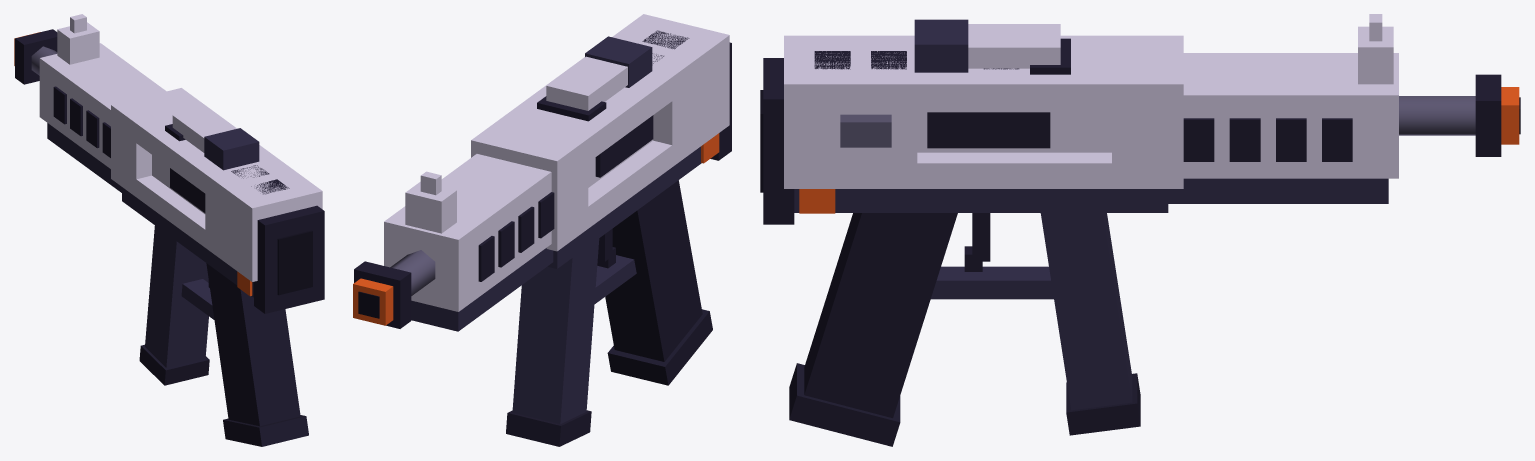
The model's file is rifle.lod1.glb.
3 renders of one model, left to right at view 1: azimuth 30°, elevation 25°; view 2: azimuth 150°, elevation 25°; view 3: azimuth 270°, elevation 25°, orthographic. The views are drawn at different scales.
Parts seen in each view (by area): view 1: item.rifle.body, part.mag, part.sight; view 2: item.rifle.body, part.mag, part.sight; view 3: item.rifle.body, part.mag, part.sight, part.bolt.
Part boxes in pixels (left/top/right/bottom): item.rifle.body: left=14, top=14, right=324, bottom=446; part.mag: left=139, top=225, right=209, bottom=385; part.sight: left=172, top=107, right=259, bottom=170; item.rifle.body: left=353, top=14, right=731, bottom=385; part.mag: left=506, top=238, right=599, bottom=446; part.sight: left=546, top=36, right=652, bottom=110; item.rifle.body: left=760, top=14, right=1520, bottom=446; part.mag: left=1040, top=213, right=1140, bottom=435; part.sight: left=914, top=19, right=1060, bottom=72; part.bolt: left=840, top=114, right=891, bottom=147.
Size of the model in its own units: 0.1625 by 0.555 by 0.9272.
